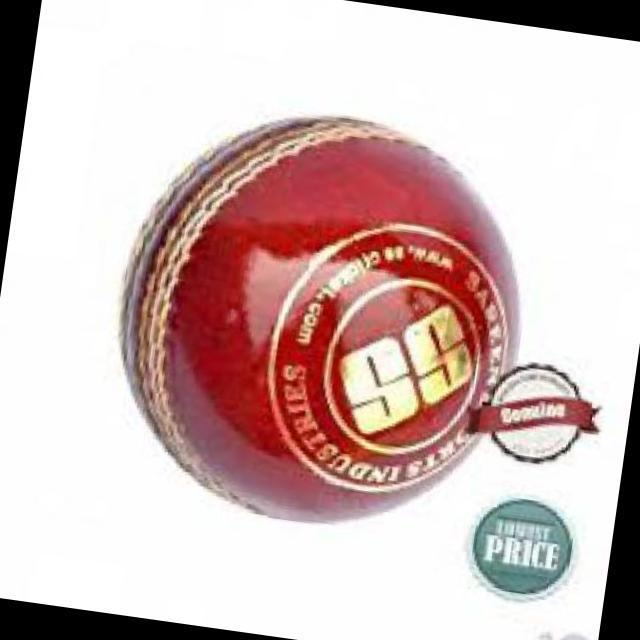-: (79, 88, 546, 549)
